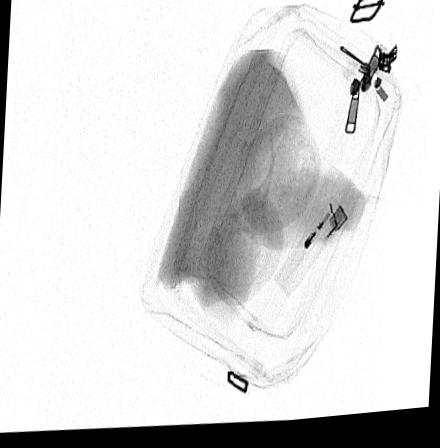Lighter: (273, 201, 349, 304)
